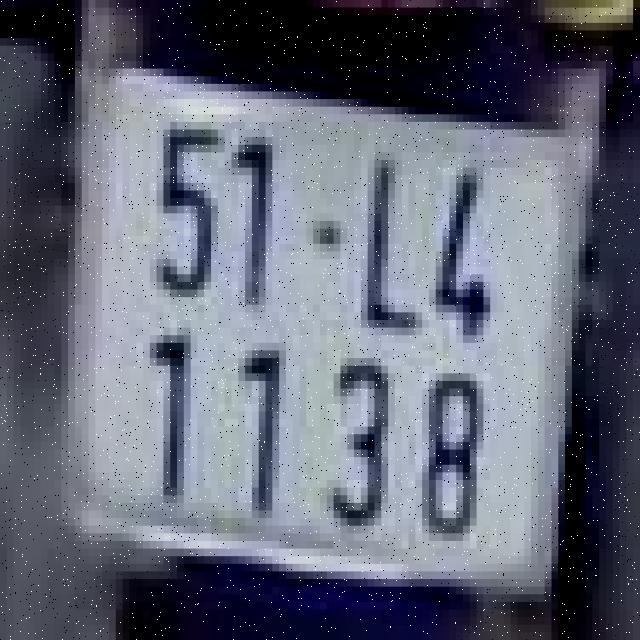1: (228, 122, 289, 320), (231, 343, 293, 533), (143, 324, 204, 514)
3: (317, 347, 398, 537)
4: (426, 168, 507, 350)
5: (153, 103, 228, 293)
8: (409, 366, 490, 548)
L: (340, 141, 429, 339)
